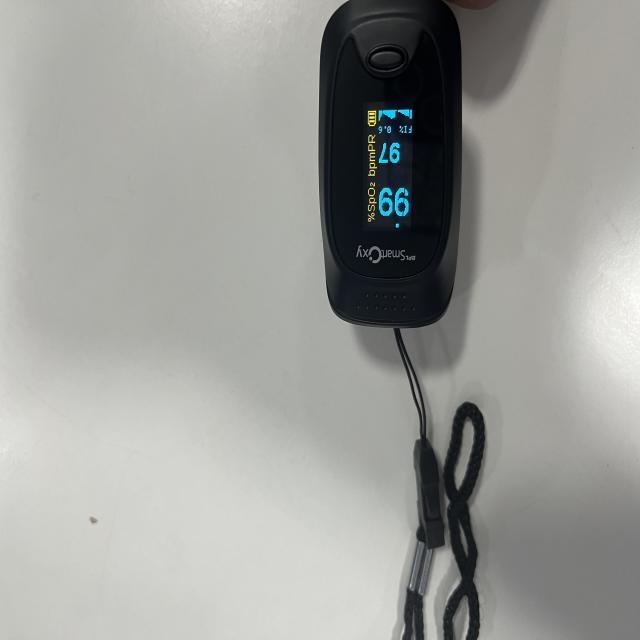spo2: (318, 0, 464, 333)
